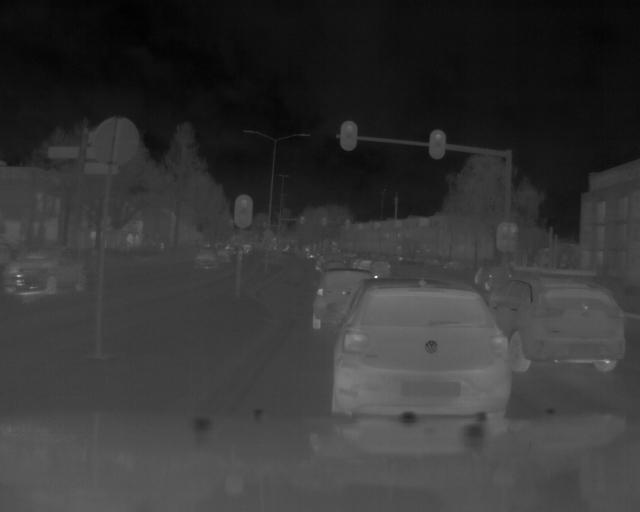car: (330, 276, 516, 419), (484, 277, 626, 377), (310, 267, 385, 334), (2, 250, 95, 299), (470, 264, 516, 292)
